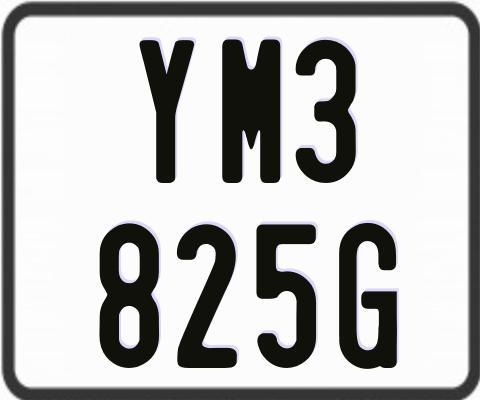2: (176, 222, 239, 371)
3: (293, 40, 353, 184)
5: (256, 223, 318, 370)
8: (98, 223, 164, 370)
G: (336, 220, 394, 368)
M: (220, 37, 280, 185)
Y: (138, 39, 193, 186)
